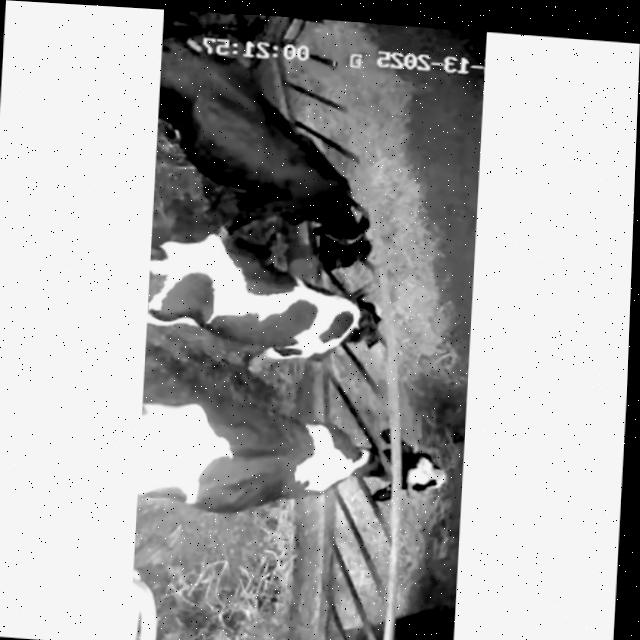eat: (222, 127, 433, 271), (286, 398, 465, 533), (255, 270, 447, 380)
